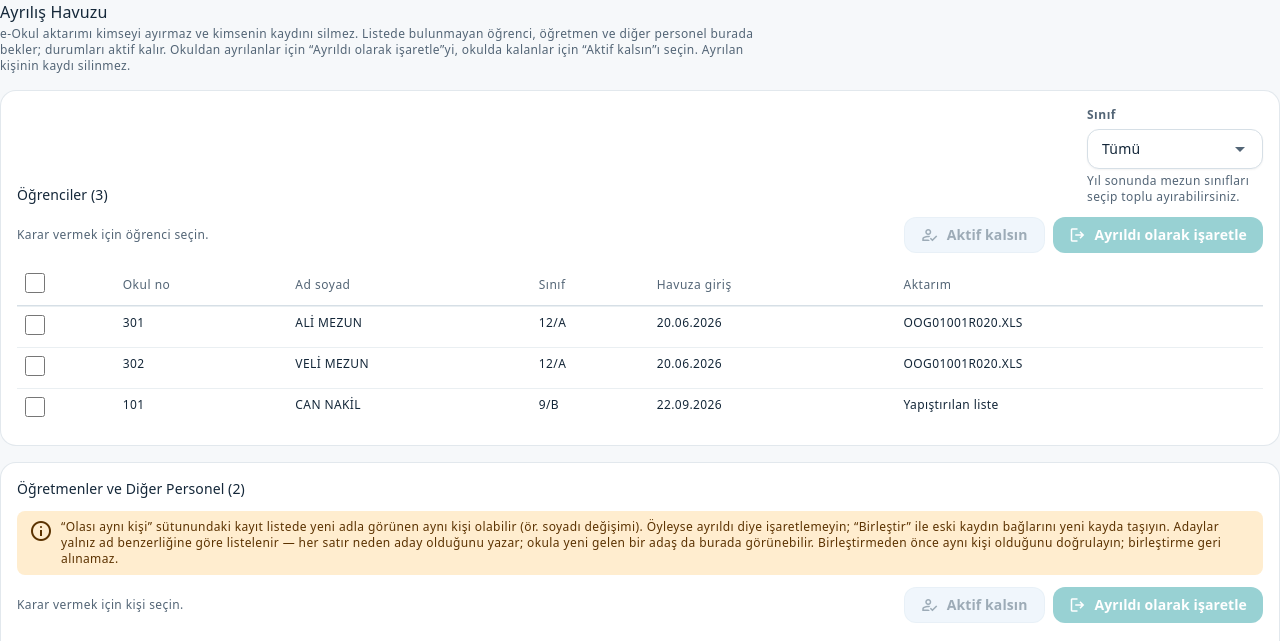
Test: AyrilisHavuzu — karar › karardan sonra listeden düşen sınıf süzgeci sıfırlanır (kalanlar görünür kalır)
Expected: the heading "Öğrenciler (3)" is shown, [17, 185, 108, 205]
Select "12/A" in the dropdown labelled "Sınıf": (1163, 149) [1098, 139, 1228, 159]
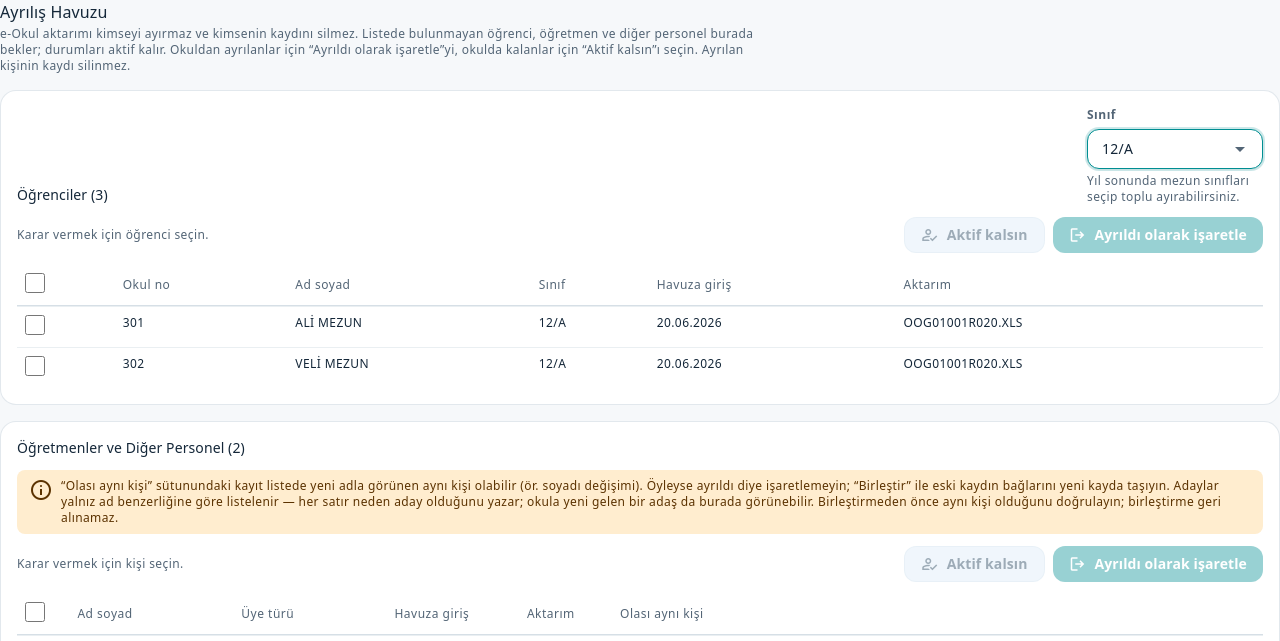
Click the checkbox named "Görünen öğrencilerin tümünü seç": (35, 283) [25, 273, 45, 293]
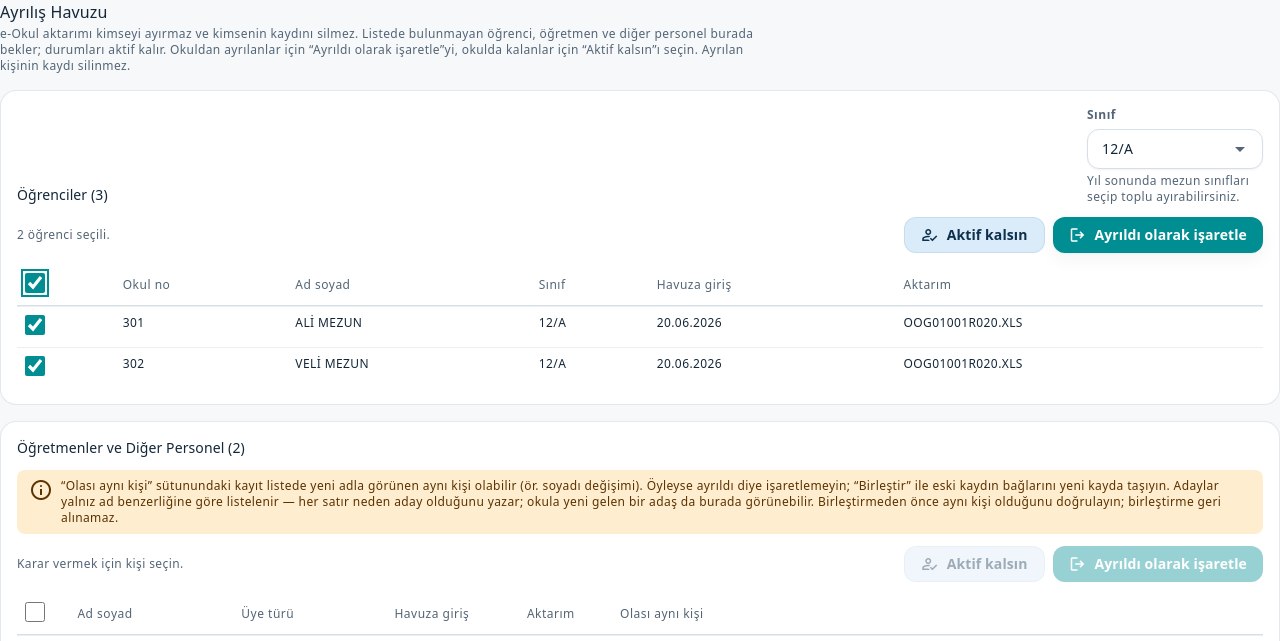
Click the button "Ayrıldı olarak işaretle" in the row of "2 öğrenci seçili.": (1158, 235) [1052, 217, 1263, 253]
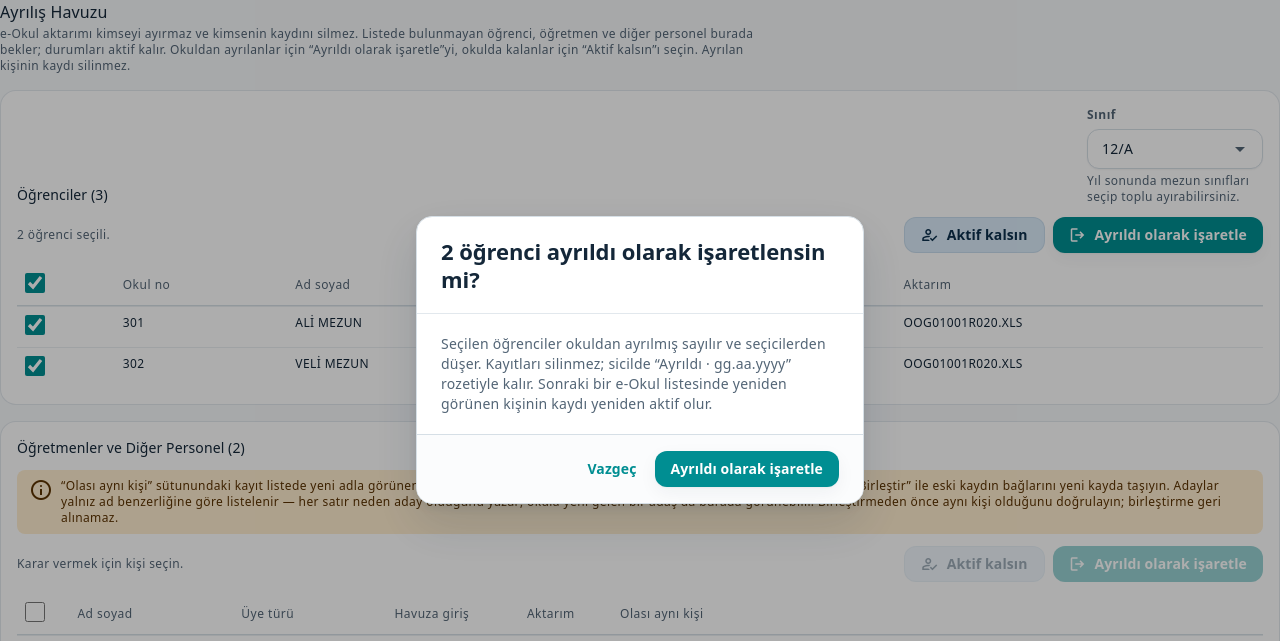
Click the button "Ayrıldı olarak işaretle": (747, 469) [654, 451, 839, 487]
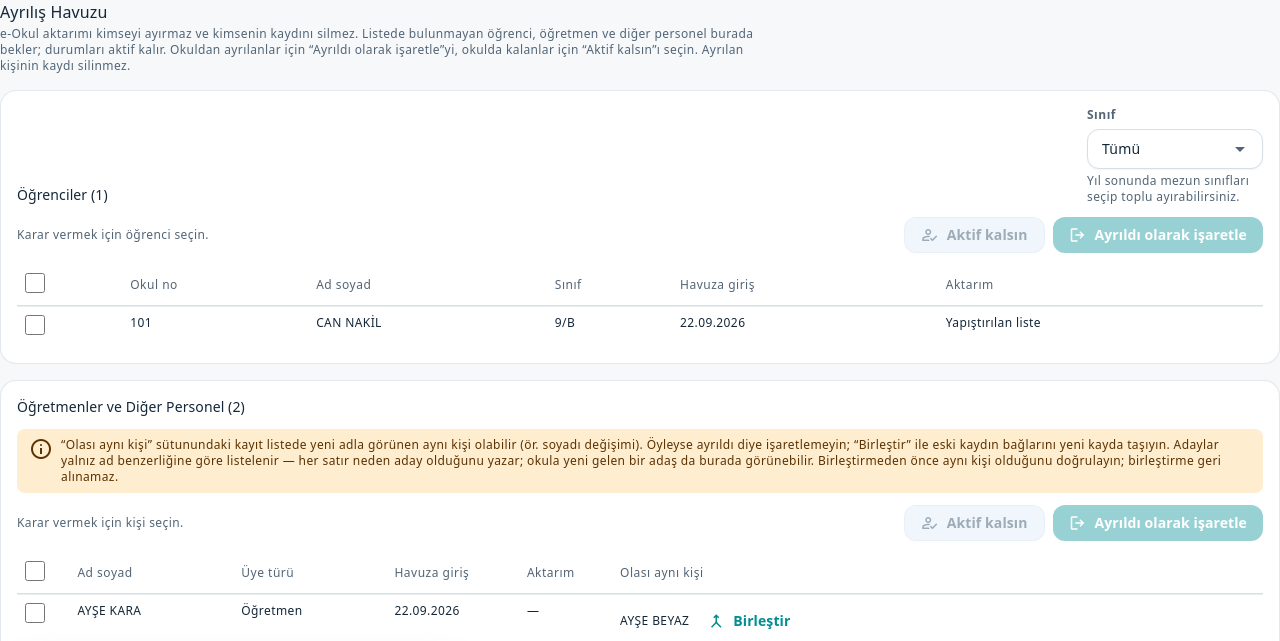
Now the heading "Öğrenciler (1)" is shown, box [17, 185, 108, 205]
Now the text "CAN NAKİL" is shown, box [308, 306, 547, 347]
